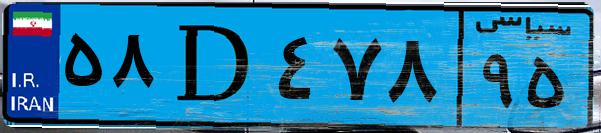4: (270, 28, 330, 110)
5: (57, 26, 110, 100), (525, 38, 570, 115)
7: (330, 28, 385, 110)
8: (385, 28, 445, 110), (110, 28, 158, 98)
9: (475, 38, 525, 113)
D: (158, 12, 270, 120)
